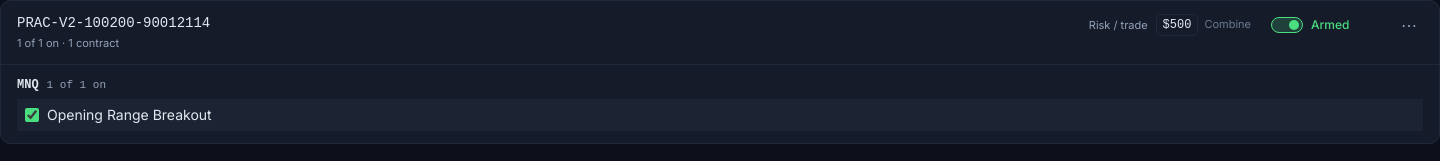
Test: Remove from account, in an account's ⋯ menu › is inert while the book is on or a playbook has not closed, and says why in the menu
Click the button "⋯".
click(1409, 25)  # box left=1395, top=15, right=1423, bottom=35
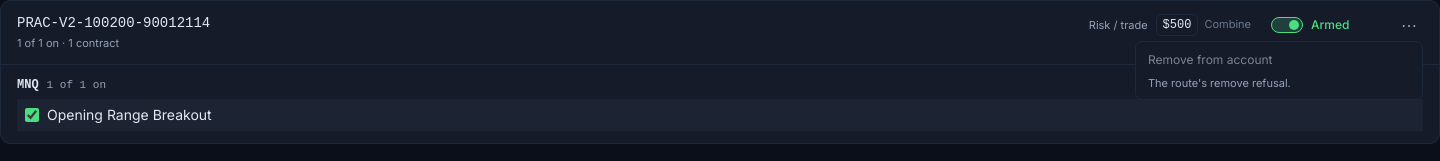
Expected: the menu item "Remove from account" is disabled, left=1140, top=48, right=1418, bottom=72
Expected: the text "The route's remove refusal." is shown, left=1148, top=76, right=1291, bottom=90
Expected: the menu shows "The route's remove refusal.", left=1148, top=76, right=1291, bottom=90
